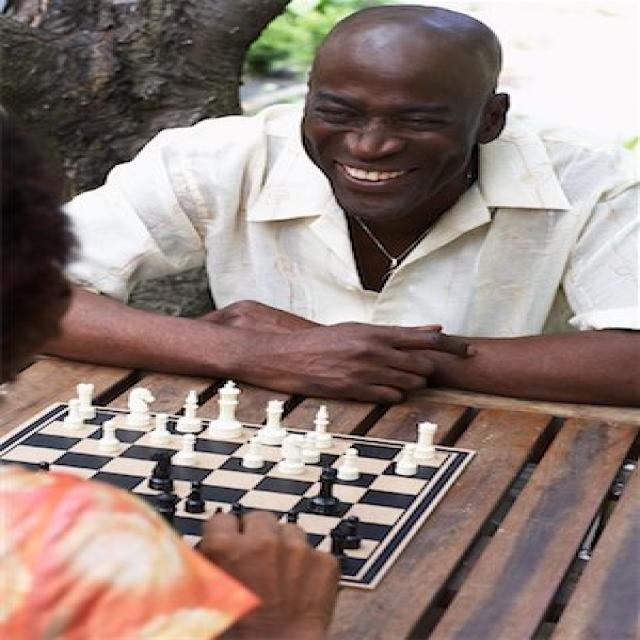chess-table-corners: (437, 448, 460, 462), (345, 568, 363, 580)
